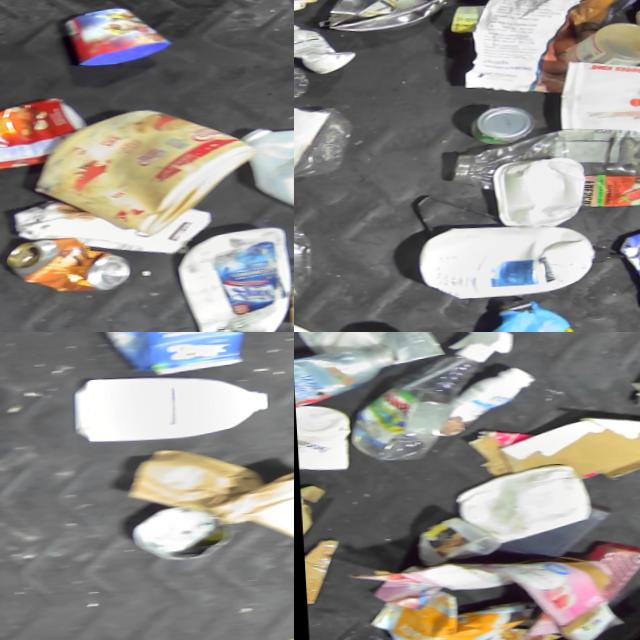can: (0, 233, 132, 297), (117, 332, 270, 381), (465, 106, 540, 147)
milk_jug: (409, 218, 593, 301), (68, 368, 271, 443), (9, 191, 215, 263), (237, 118, 294, 233)
non_white_jug: (26, 104, 263, 243), (0, 94, 90, 177), (614, 213, 640, 318), (481, 307, 589, 332)
plastic_bottle: (294, 94, 349, 184)
